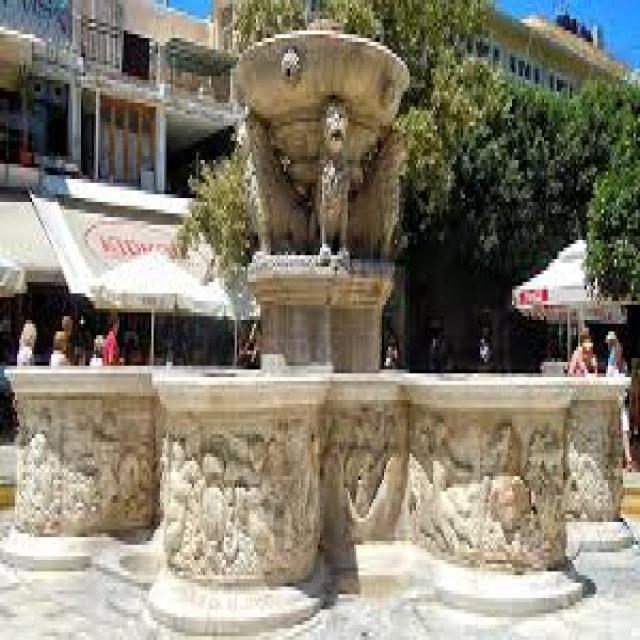Liontaria: (11, 33, 626, 620)
